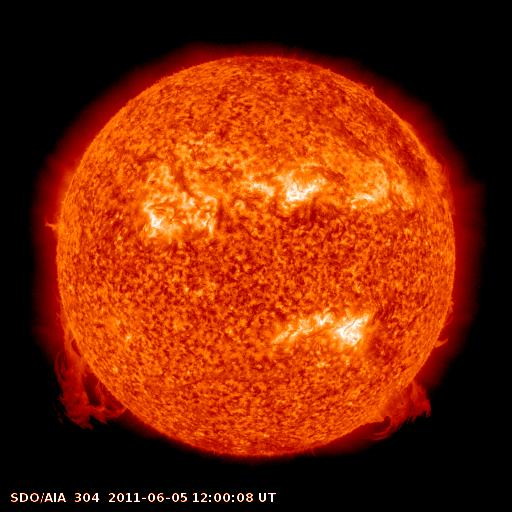prominence: (40, 317, 133, 436), (351, 373, 435, 447), (429, 147, 464, 222), (425, 291, 462, 354), (32, 205, 70, 241)
